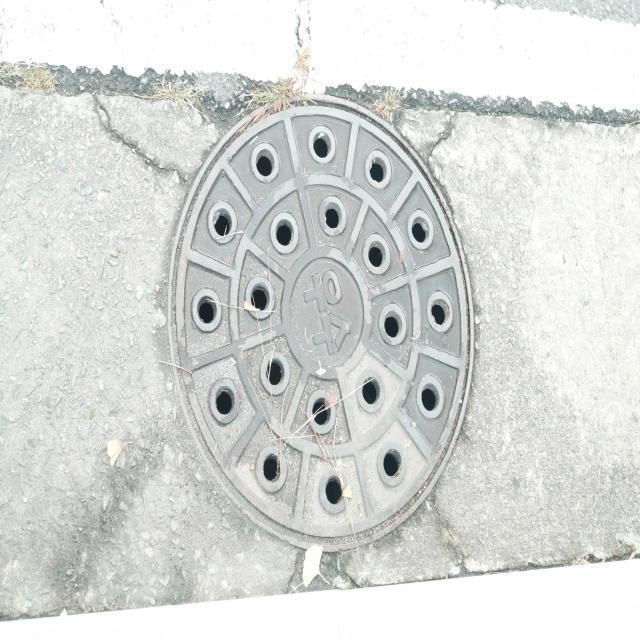manhole: (170, 98, 472, 551)
